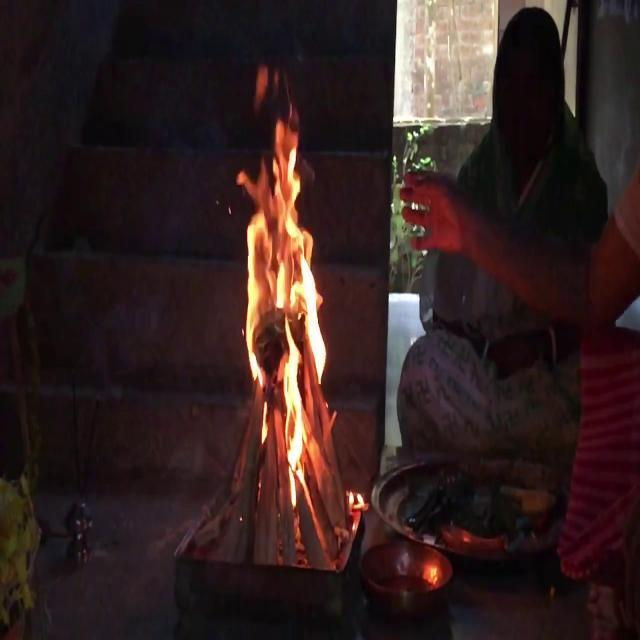Fire: (225, 88, 334, 469)
